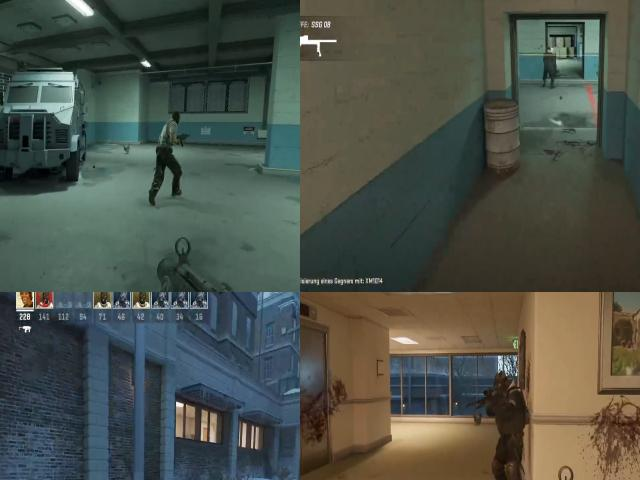CT: (542, 46, 554, 82)
CT-Head: (477, 368, 529, 442), (491, 373, 514, 402), (546, 46, 552, 60)
T: (157, 119, 183, 159)
T-Head: (168, 108, 182, 130)
